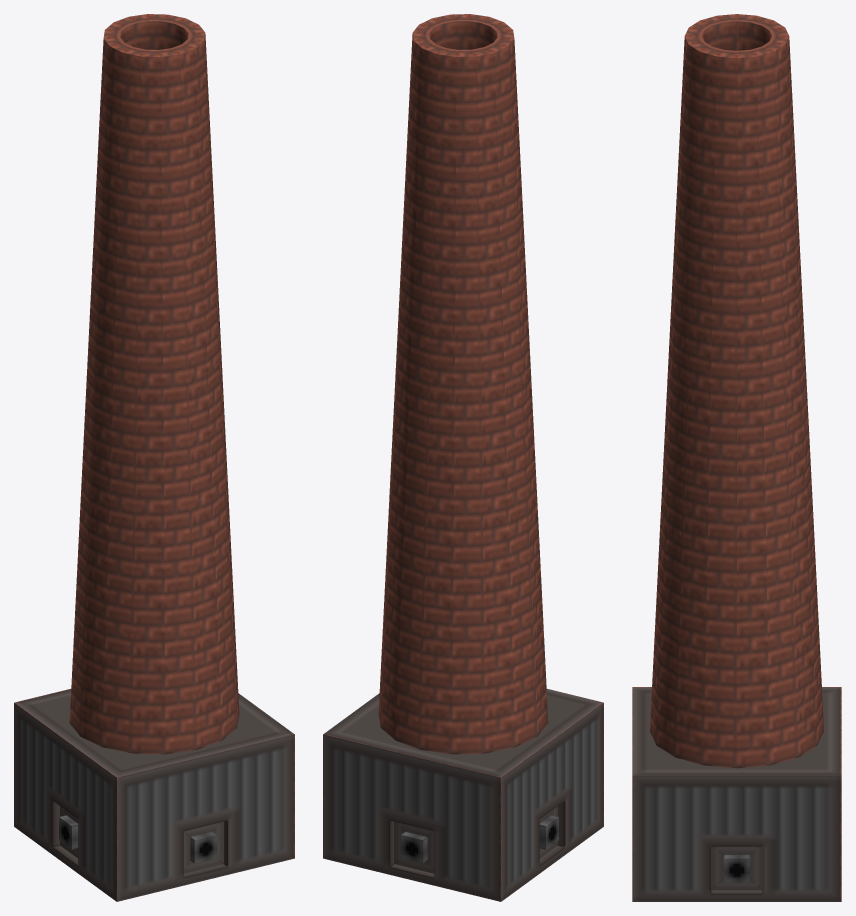
File: chimney_brick.obj
3 renders of one model, left to right at view 1: azimuth 30°, elevation 25°; view 2: azimuth 150°, elevation 25°; view 3: azimuth 270°, elevation 25°, orthographic.
Parts seen in each view (by area): view 1: Plane; view 2: Plane; view 3: Plane.
Boxes of the visible parts, x1=… form: Plane: x1=14, y1=14, x2=294, y2=901; Plane: x1=323, y1=14, x2=603, y2=901; Plane: x1=632, y1=14, x2=841, y2=901.
Size of the model in its own units: 3 by 13 by 3.
